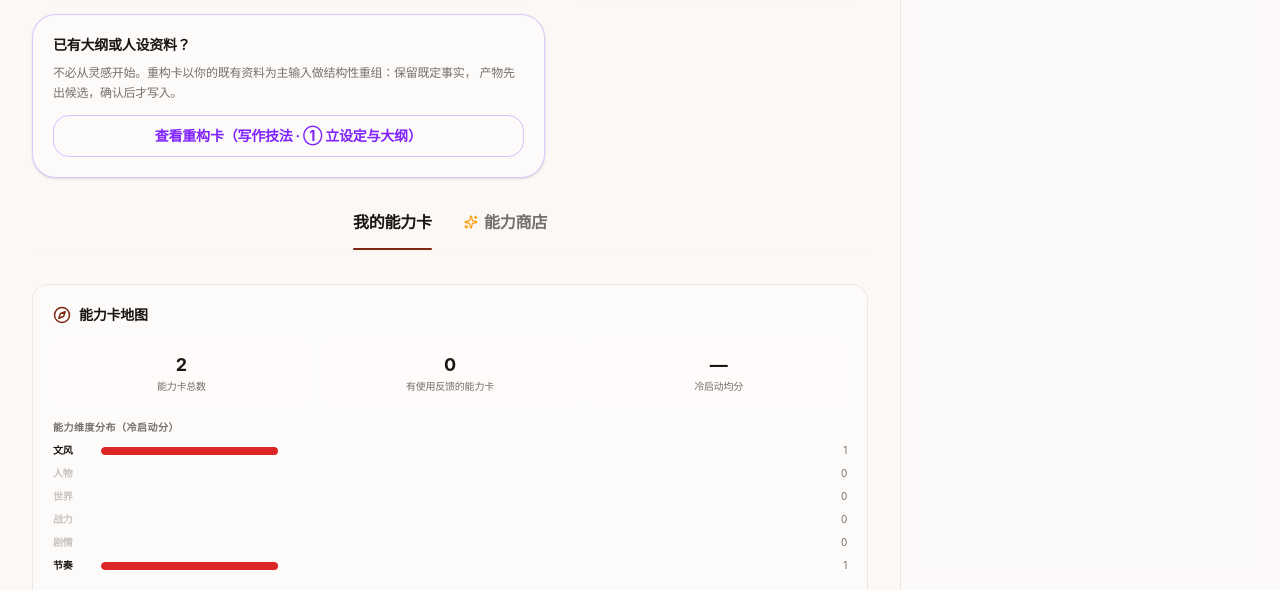
it: Plan 158 capability candidates › imports an unavailable package component in place and selects it
(page scrolled)
Click the button "能力商店": {"x": 505, "y": 230} [464, 210, 547, 250]
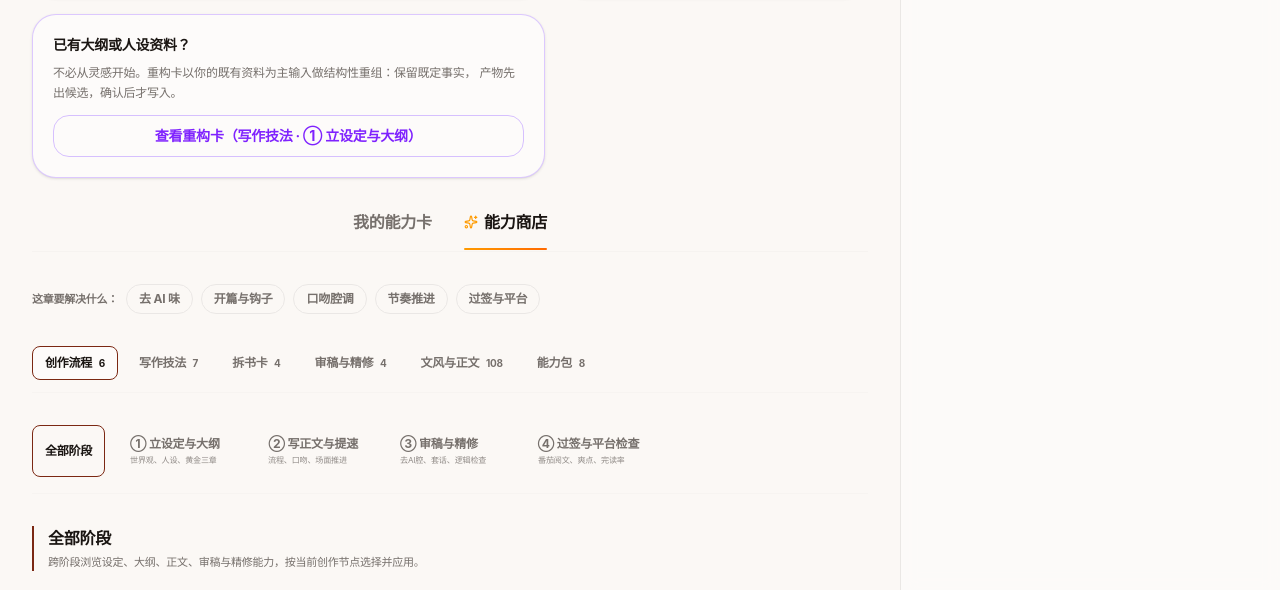
Expected: the tab "能力包 8" is shown
Click the tab "能力包 8": {"x": 561, "y": 363} [524, 346, 598, 380]
(page scrolled)
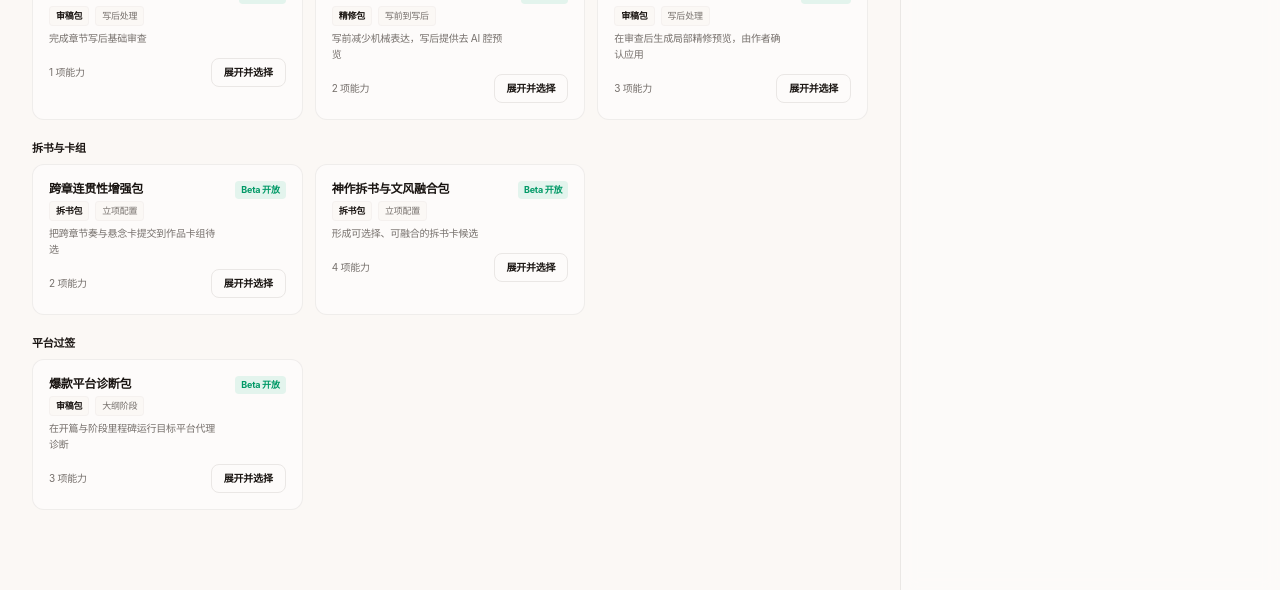
Expected: the text "神作拆书与文风融合包" is shown, [332, 181, 449, 196]
Click the button "展开并选择" below "形成可选择、可融合的拆书卡候选": {"x": 531, "y": 267} [494, 252, 568, 282]
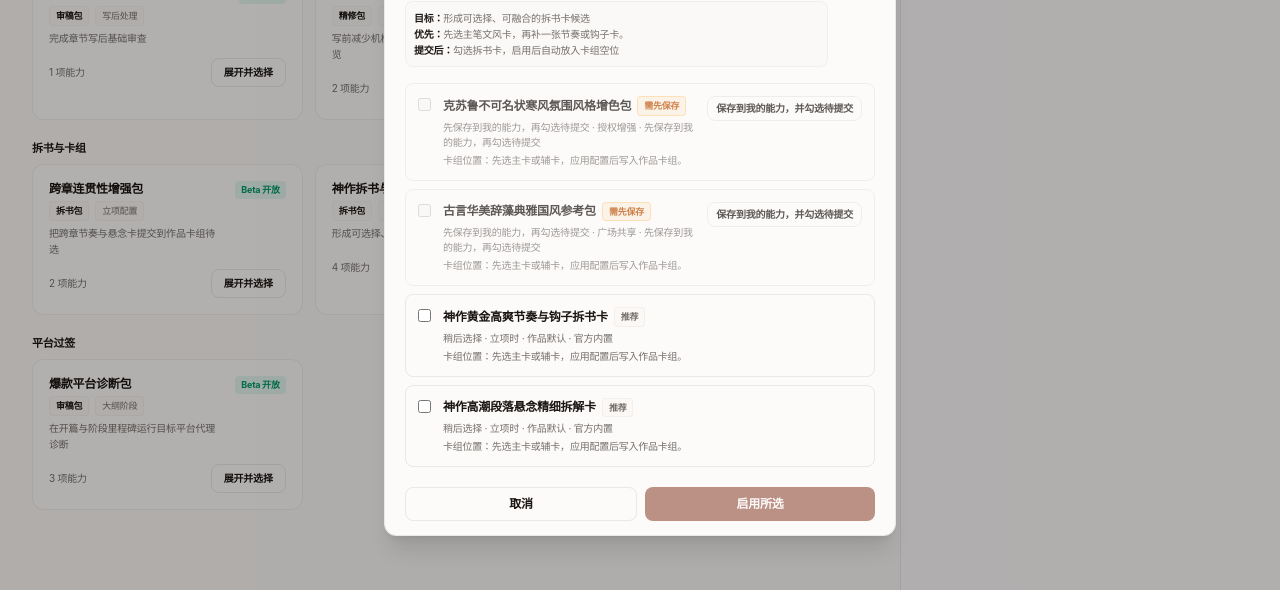
Expected: the text "需先保存" next to "克苏鲁不可名状寒风氛围风格增色包" is shown, [644, 100, 679, 111]
Expected: the number of buttons "保存到我的能力，并勾选待提交" is 2
Click the button "保存到我的能力，并勾选待提交" in the row of "克苏鲁不可名状寒风氛围风格增色包": {"x": 785, "y": 108} [707, 96, 862, 121]
(page scrolled)
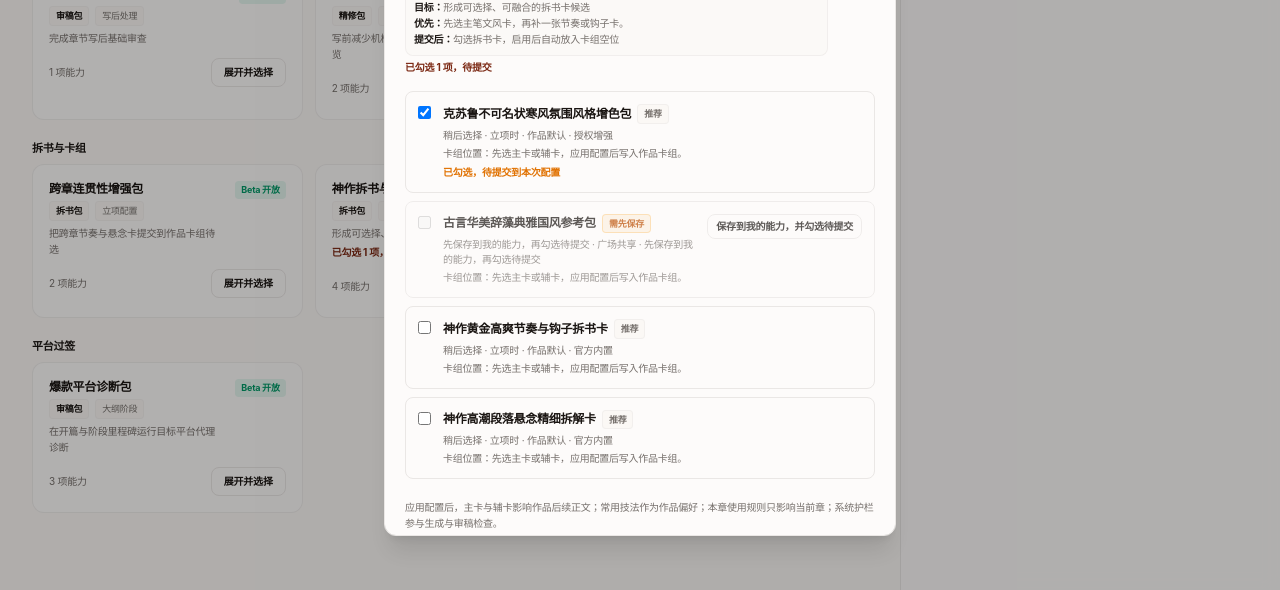
Expected: the text "已勾选 1 项，待提交" is shown, [405, 61, 491, 73]
Expected: the text "已勾选，待提交到本次配置" is shown, [443, 166, 560, 178]
